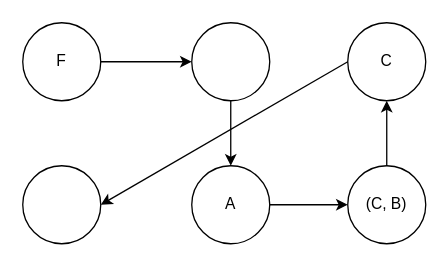
This 448x267 diagram has some shape labels left out. The centre of each missing label's shape, as x and y in pixels:
"(A, B)" goes at (x=230, y=61).
"(D, E)" goes at (x=61, y=204).
